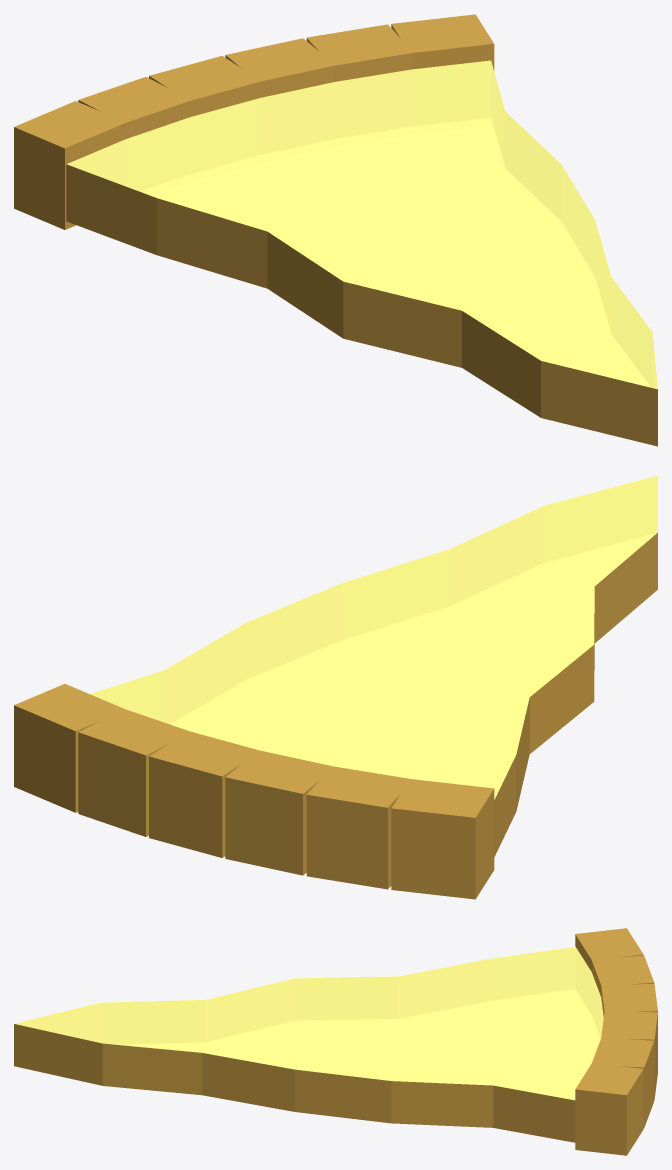
Rendered from prop_compass_piece_03_v01.glb.
The picture shows the model from 3 angles, top to bottom: view 1: azimuth 30°, elevation 25°; view 2: azimuth 150°, elevation 25°; view 3: azimuth 270°, elevation 25°; orthographic projection. The views are drawn at different scales.
Parts seen in each view (by area): view 1: piece_03; view 2: piece_03; view 3: piece_03.
Boxes of the visible parts, x1,y1,x2,y2 form: piece_03: (14,14,657,446); piece_03: (14,475,657,899); piece_03: (14,928,657,1155).
Size of the model in its own units: 0.2959 by 0.05 by 0.482.
